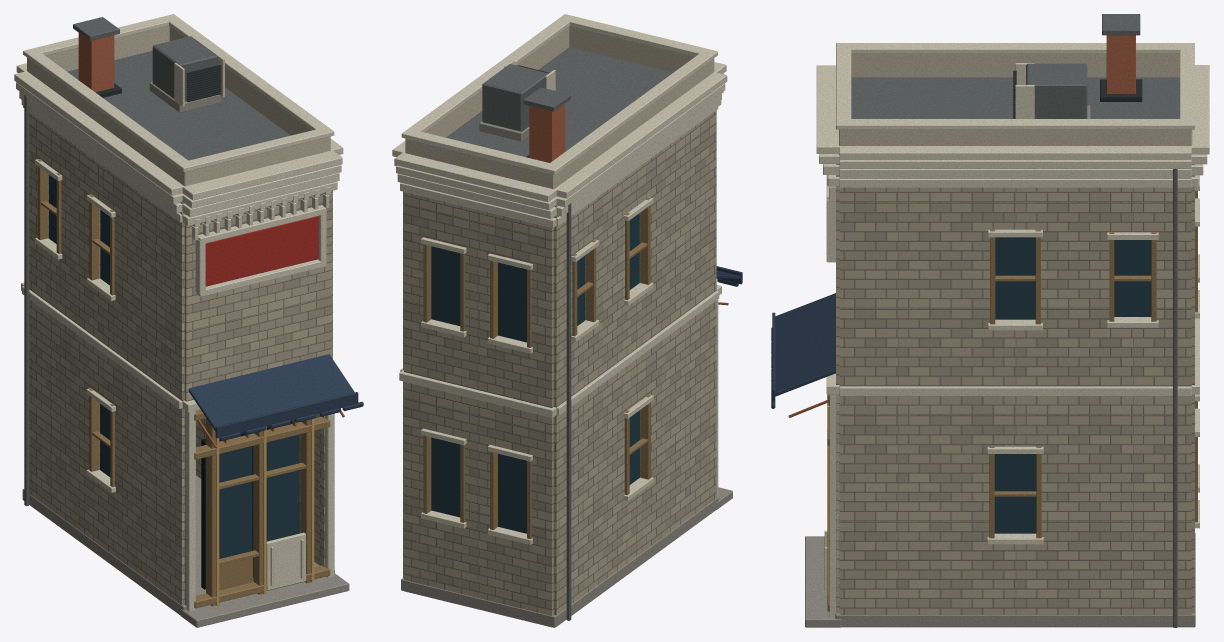
File: BUSS2_lod1.glb
The picture shows the model from 3 angles, left to right: view 1: azimuth 30°, elevation 25°; view 2: azimuth 150°, elevation 25°; view 3: azimuth 270°, elevation 25°; orthographic projection. The views are drawn at different scales.
Visible parts, largest first — view 1: BUSS2_LOD1; view 2: BUSS2_LOD1; view 3: BUSS2_LOD1.
Part boxes in pixels (x1,y1,x2,y2): BUSS2_LOD1: (14, 14, 363, 627); BUSS2_LOD1: (392, 14, 742, 627); BUSS2_LOD1: (771, 14, 1209, 627).
Size of the model in its own units: 3.78 by 10.25 by 7.47.
14 materials, 11 textured.
